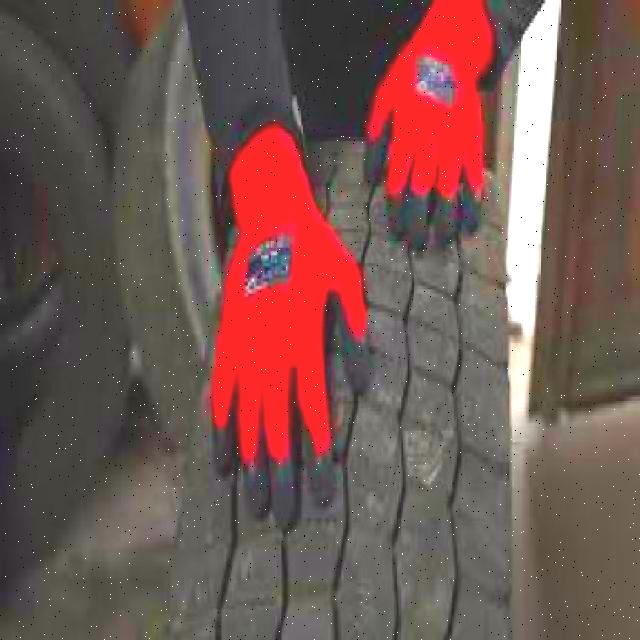Gloves: (208, 120, 367, 528), (364, 5, 496, 252)
